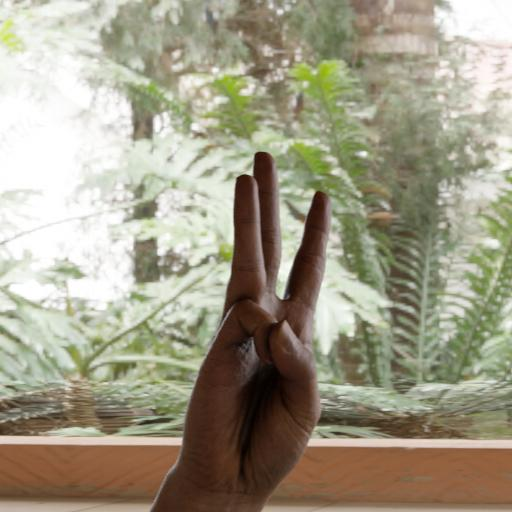W: (162, 141, 340, 498)
